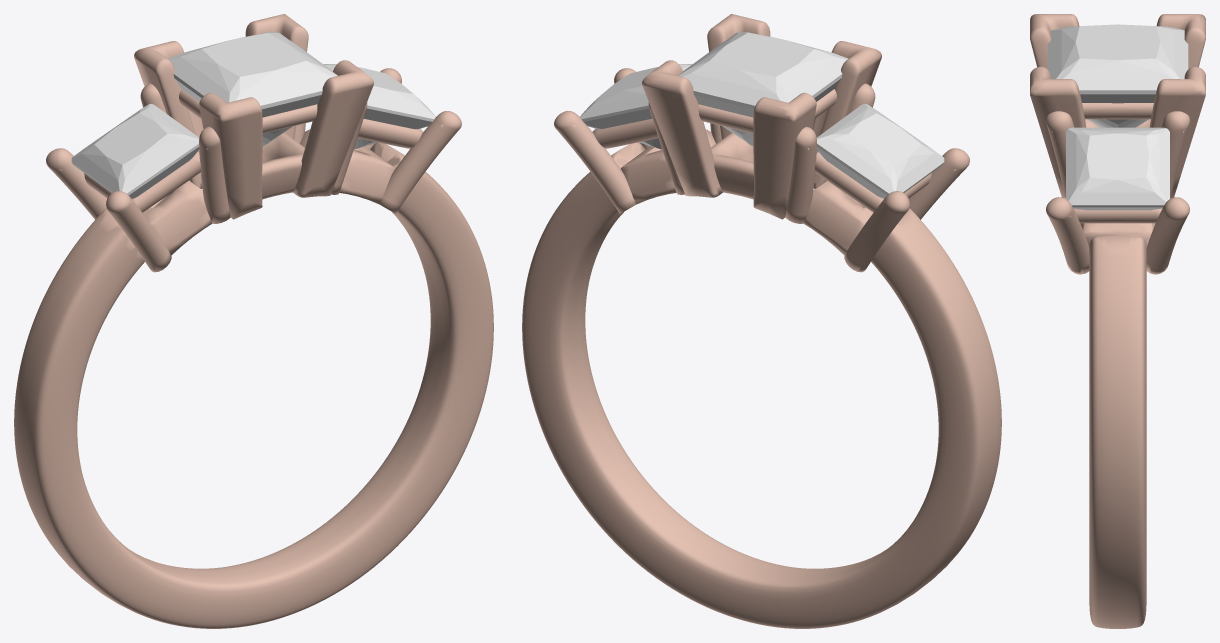
The model's file is diamond-princess-rosegold-protectededges4prongs-straightband-3stone.glb.
3 renders of one model, left to right at view 1: azimuth 30°, elevation 25°; view 2: azimuth 150°, elevation 25°; view 3: azimuth 270°, elevation 25°, orthographic.
Visible parts, largest first — view 1: metal, stone, side.001, side; view 2: metal, stone, side.001, side; view 3: metal, stone, side.
Part boxes in pixels (x1,y1,x2,y2): metal: (14, 14, 493, 628); stone: (167, 32, 337, 146); side.001: (71, 103, 199, 198); side: (323, 64, 435, 149); metal: (522, 14, 1001, 628); stone: (678, 32, 848, 146); side.001: (816, 103, 944, 198); side: (580, 64, 692, 149); metal: (1030, 14, 1205, 628); stone: (1047, 24, 1188, 127); side: (1066, 127, 1169, 210).
Size of the model in its own units: 20.51 by 23.85 by 6.77.
